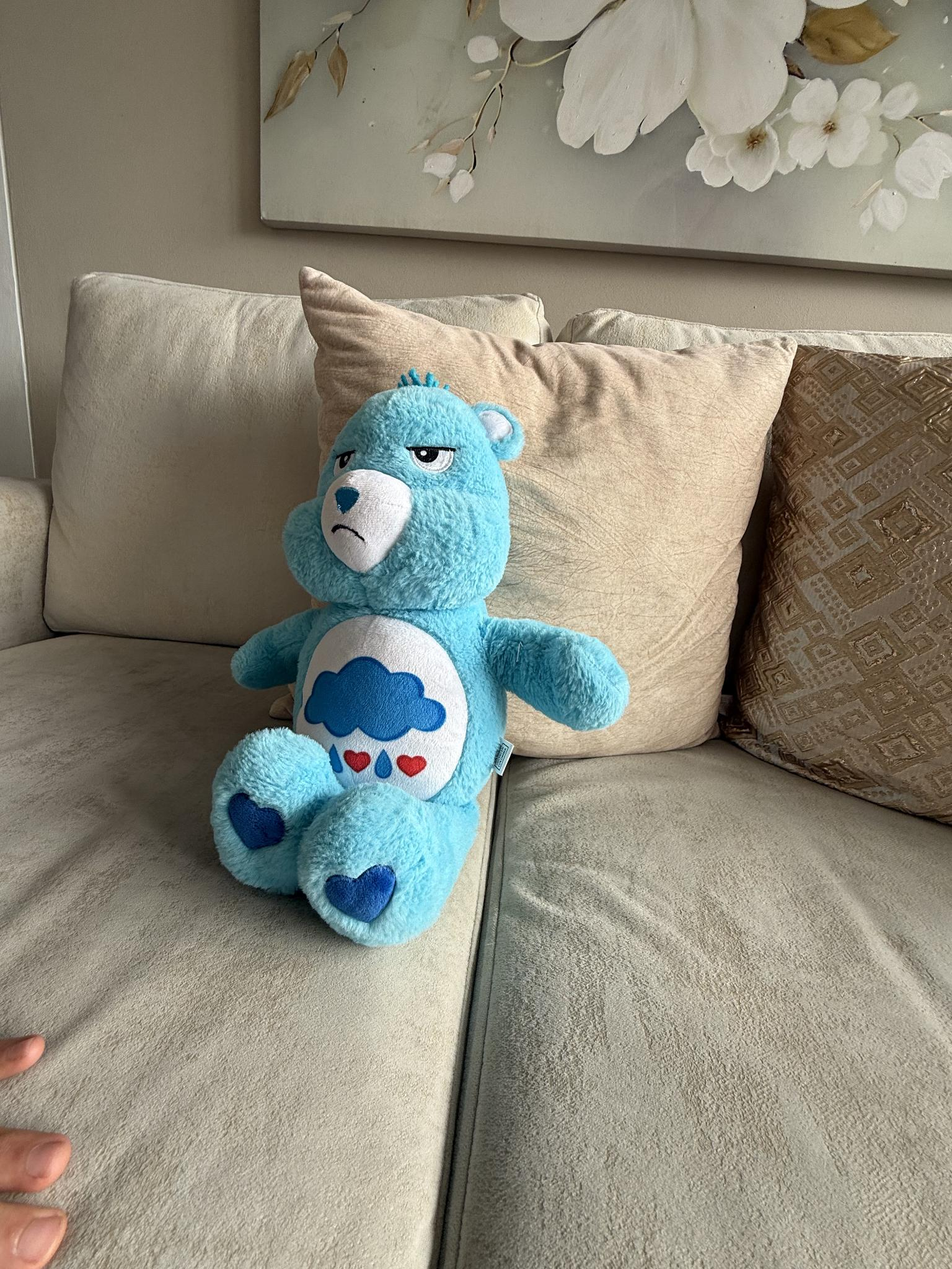peluche_Juan Jose: (210, 368, 623, 947)
